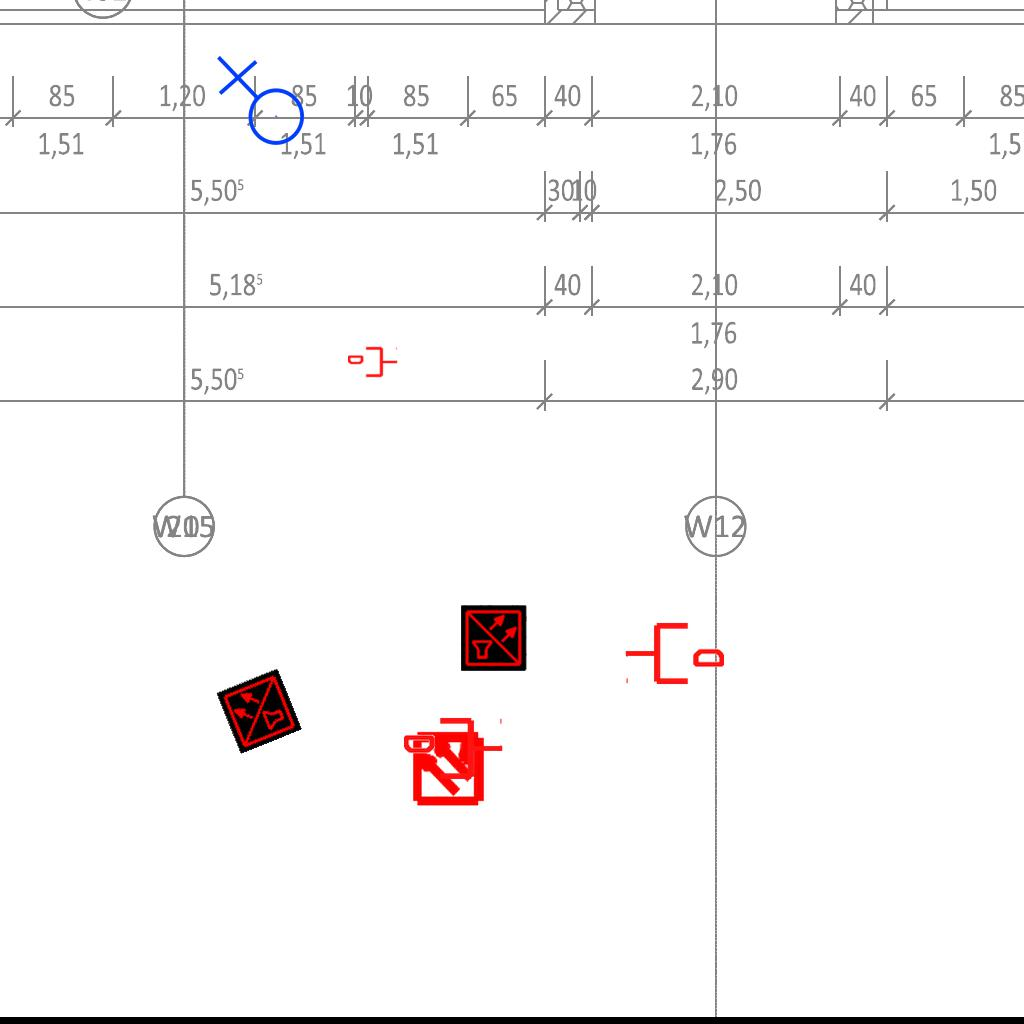Datenanschluss_einfach: (624, 619, 724, 688), (404, 714, 504, 783), (348, 345, 398, 379)
Elektroanschluss_allgemein_230V_Geraeteanschlussdose_230V: (212, 55, 306, 154)
OKW_Multisensormelder_(Kombination_optischer_Rauch-Kahlenmonoxid_Waerme-Melder): (216, 668, 302, 754), (461, 605, 527, 671)
OT_Multisensormelder_(Kombination_RMO_WMD): (392, 710, 505, 823)
